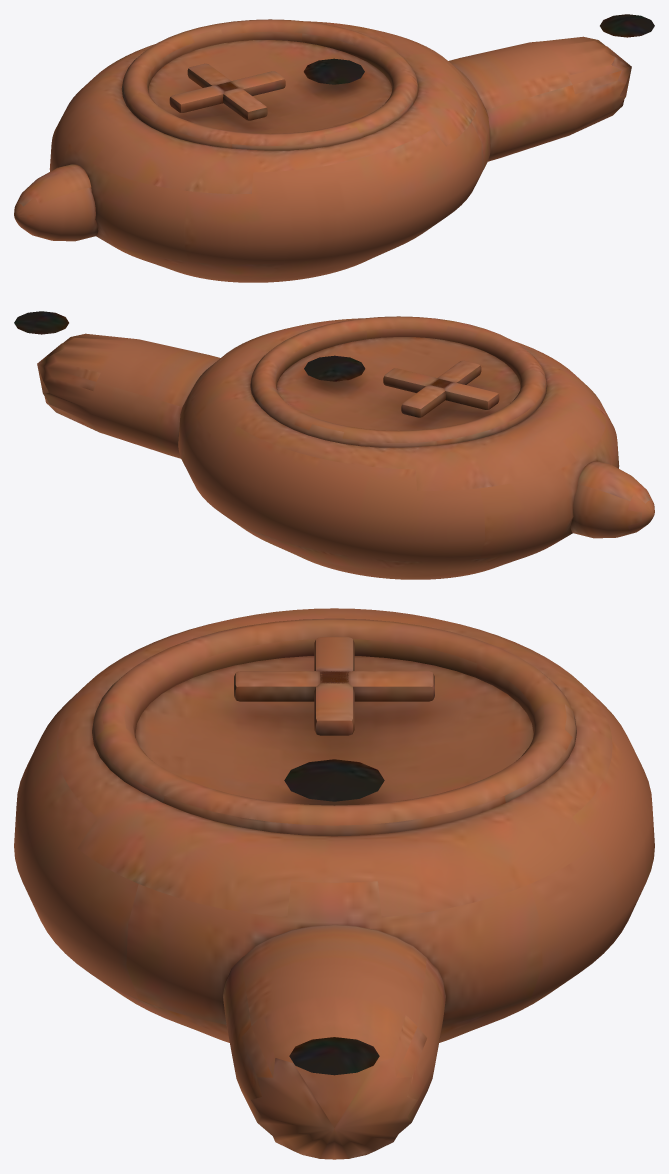
The model's file is clay_lamp.glb.
The picture shows the model from 3 angles, top to bottom: view 1: azimuth 30°, elevation 25°; view 2: azimuth 150°, elevation 25°; view 3: azimuth 270°, elevation 25°; orthographic projection. The views are drawn at different scales.
Parts seen in each view (by area): view 1: clay_lamp; view 2: clay_lamp; view 3: clay_lamp.
Boxes of the visible parts, left/top/right/bottom form: clay_lamp: left=14, top=14, right=654, bottom=282; clay_lamp: left=14, top=311, right=654, bottom=579; clay_lamp: left=14, top=608, right=654, bottom=1159.
Size of the model in its own units: 0.1194 by 0.0295 by 0.0637.
1 material, 1 textured.
